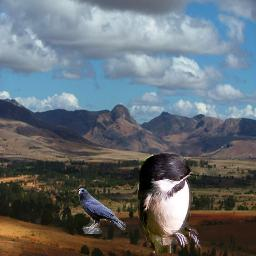Crow: (77, 188, 126, 234)
Swallow: (135, 150, 204, 253)
